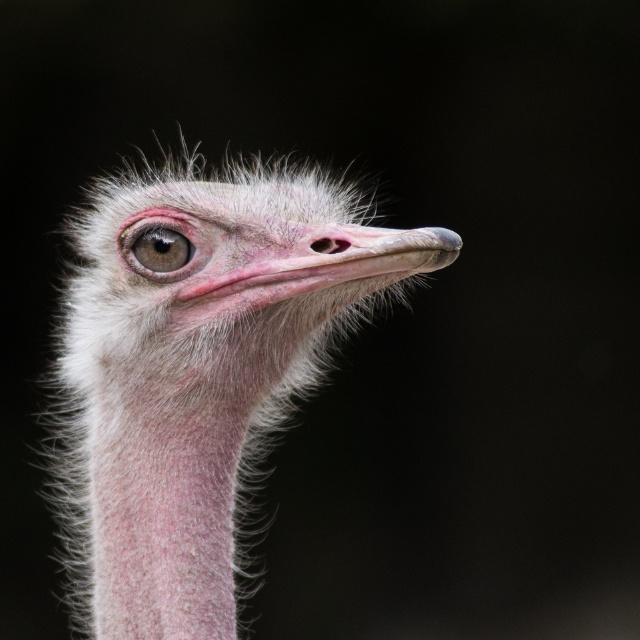Ostrich: (75, 164, 466, 640)
